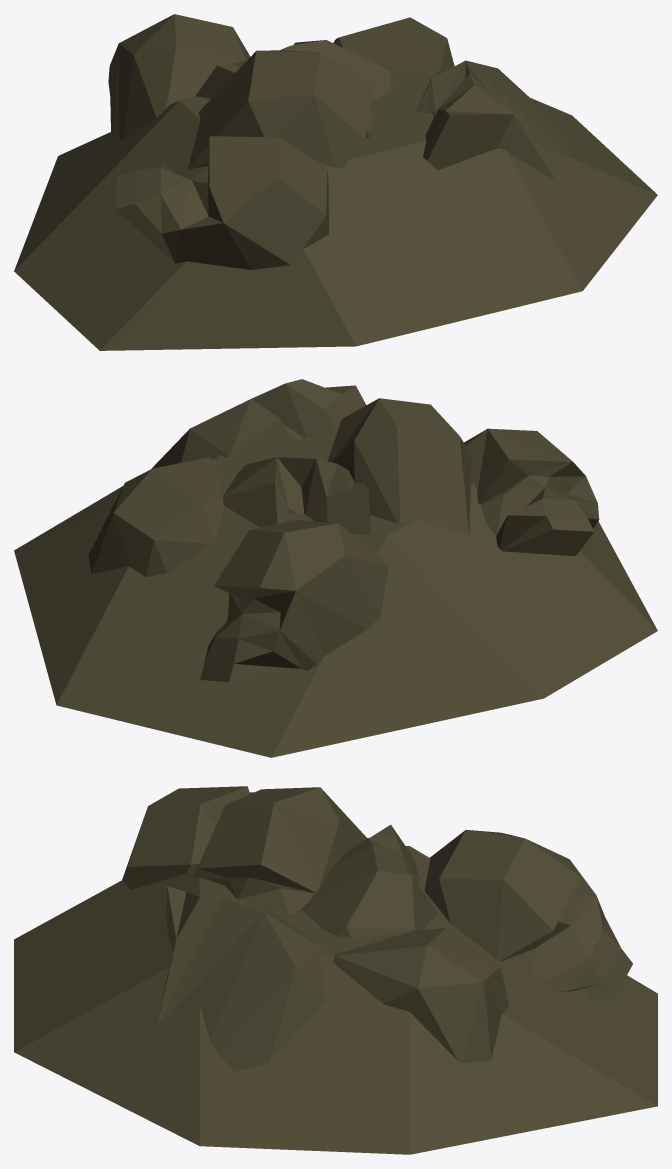
File: ORC_SKULLSONFLOOR.OBJ
3 renders of one model, top to bottom at view 1: azimuth 30°, elevation 25°; view 2: azimuth 150°, elevation 25°; view 3: azimuth 270°, elevation 25°, orthographic. The views are drawn at different scales.
Visible parts, largest first — view 1: ORC_SKULLSONFLOOR; view 2: ORC_SKULLSONFLOOR; view 3: ORC_SKULLSONFLOOR.
Boxes of the visible parts, x1,y1,x2,y2 form: ORC_SKULLSONFLOOR: [14, 14, 657, 350]; ORC_SKULLSONFLOOR: [14, 379, 657, 757]; ORC_SKULLSONFLOOR: [14, 786, 657, 1154].
Size of the model in its own units: 0.8538 by 0.3162 by 0.8108.
